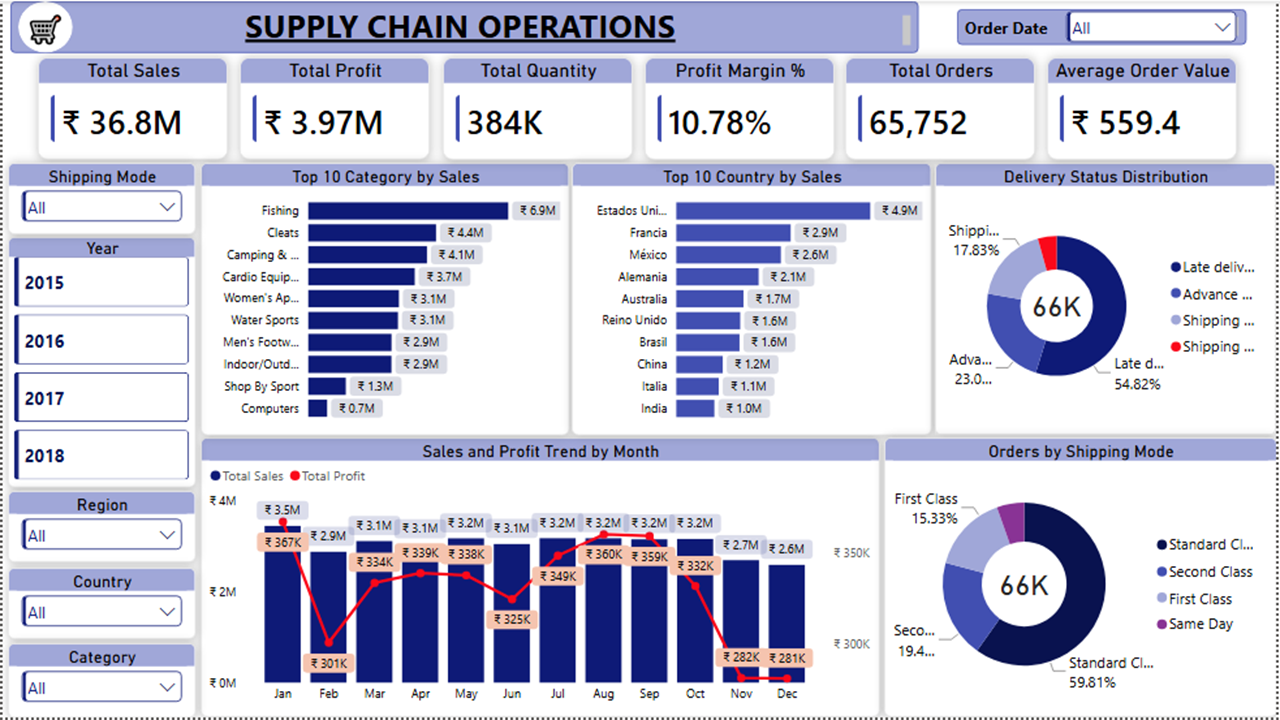

The dashboard page shown, as its layout file describes it:
{"tool":"powerbi","page":{"name":"Supply Chain Operations","canvas":[1280,720],"ordinal":0},"visuals":[{"type":"lineStackedColumnComboChart","title":"Sales and Profit Trend by Month","fields":{"Category":["Calendar_Table.Month"],"Y":["Measures Table.Total Sales"],"Y2":["Measures Table.Total Profit"]},"box":[198.7,439.2,682.6,280.8],"z":0},{"type":"cardVisual","title":"Total Sales","fields":{"Data":["Measures Table.Total Sales"]},"box":[35.4,56.6,191.3,103.2],"z":1000},{"type":"cardVisual","title":"Total Profit","fields":{"Data":["Measures Table.Total Profit"]},"box":[238.7,56.6,191.3,103.2],"z":2000},{"type":"clusteredBarChart","title":"Top 10 Category by Sales","fields":{"Category":["DataCoSupplyChainDataset.Category Name"],"Y":["Measures Table.Total Sales"]},"box":[198.7,162.7,371,273.6],"z":3000},{"type":"cardVisual","title":"Total Quantity","fields":{"Data":["Measures Table.Total Quantity"]},"box":[442.4,56.6,191.3,103.2],"z":4000},{"type":"clusteredBarChart","title":"Top 10 Country by Sales","fields":{"Category":["DataCoSupplyChainDataset.Order Country"],"Y":["Measures Table.Total Sales"]},"box":[572.6,162.4,362,273.9],"z":5000},{"type":"cardVisual","title":"Profit Margin %","fields":{"Data":["Measures Table.Profit_Margin%"]},"box":[645.1,56.6,191.3,103.2],"z":6000},{"type":"donutChart","title":"Delivery Status Distribution","fields":{"Category":["DataCoSupplyChainDataset.Delivery Status"],"Y":["Measures Table.Total Orders"]},"box":[937.3,162.4,342.7,273.9],"z":7000},{"type":"cardVisual","title":"Total Orders","fields":{"Data":["Measures Table.Total Orders"]},"box":[847.4,56.6,191.3,103.2],"z":8000},{"type":"cardVisual","title":"Average Order Value","fields":{"Data":["Measures Table.Avg_Order_Value"]},"box":[1049.8,56.6,191.3,103.2],"z":9000},{"type":"donutChart","title":"Orders by Shipping Mode","fields":{"Category":["DataCoSupplyChainDataset.Shipping Mode"],"Y":["Measures Table.Total Orders"]},"box":[885.6,439.2,394.6,280.8],"z":10000},{"type":"advancedSlicerVisual","title":"Year","fields":{"Values":["Calendar_Table.Year"]},"box":[5.8,237.6,188.6,252],"z":11000},{"type":"slicer","title":"Region","fields":{"Values":["DataCoSupplyChainDataset.Order Region"]},"box":[5.8,492.5,188.6,72],"z":12000},{"type":"slicer","title":"Country","fields":{"Values":["DataCoSupplyChainDataset.Order Country"]},"box":[5.8,568.8,188.6,72],"z":13000},{"type":"textbox","box":[959,7.2,290.9,36],"z":14000},{"type":"slicer","title":"Order Date","fields":{"Values":["Calendar_Table.Date"]},"box":[1064.2,0,181.4,47.5],"z":15000},{"type":"slicer","title":"Category","fields":{"Values":["DataCoSupplyChainDataset.Category Name"]},"box":[5.8,645.1,188.6,74.9],"z":16000},{"type":"slicer","title":"Shipping Mode","fields":{"Values":["DataCoSupplyChainDataset.Shipping Mode"]},"box":[5.8,162.7,188.6,72],"z":17000},{"type":"textbox","box":[7.5,0,913,51.8],"z":18000},{"type":"shape","box":[16.2,0,54.8,51.7],"z":19000}]}

Visuals, with their boxes in screenshot pixels (x1, y1, x2, y2), scaled from the page's 1280x720 canvas onto the 1280x720 screenshot:
"Sales and Profit Trend by Month" lineStackedColumnComboChart: 199 439 881 719
"Total Sales" cardVisual: 35 57 227 160
"Total Profit" cardVisual: 239 57 430 160
"Top 10 Category by Sales" clusteredBarChart: 199 163 570 436
"Total Quantity" cardVisual: 442 57 634 160
"Top 10 Country by Sales" clusteredBarChart: 573 162 935 436
"Profit Margin %" cardVisual: 645 57 836 160
"Delivery Status Distribution" donutChart: 937 162 1279 436
"Total Orders" cardVisual: 847 57 1039 160
"Average Order Value" cardVisual: 1050 57 1241 160
"Orders by Shipping Mode" donutChart: 886 439 1279 719
"Year" advancedSlicerVisual: 6 238 194 490
"Region" slicer: 6 492 194 564
"Country" slicer: 6 569 194 641
textbox: 959 7 1250 43
"Order Date" slicer: 1064 0 1246 48
"Category" slicer: 6 645 194 719
"Shipping Mode" slicer: 6 163 194 235
textbox: 8 0 920 52
shape: 16 0 71 52
